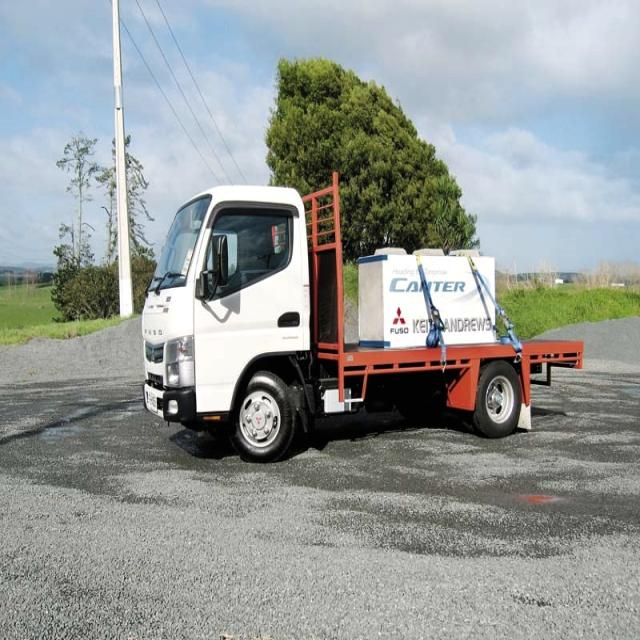truck: (139, 166, 584, 465)
